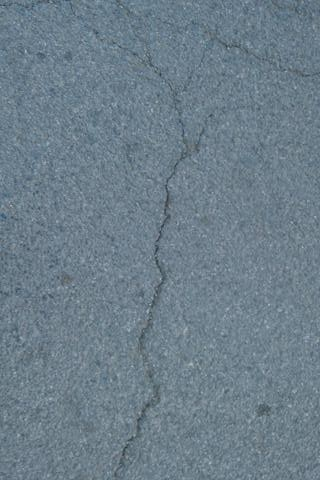A: (95, 24, 320, 473)
